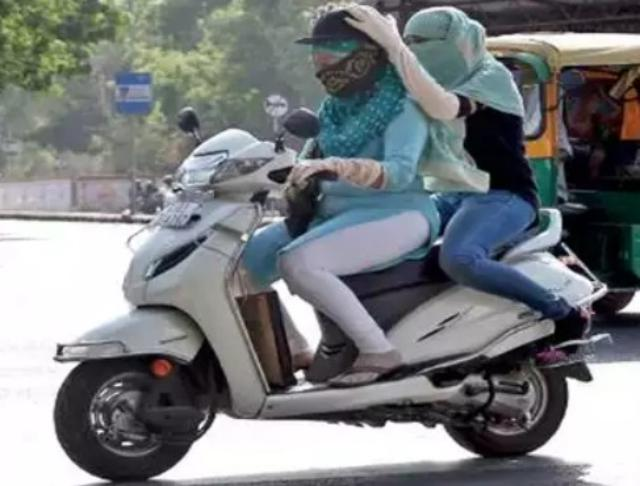licensePlate: (157, 203, 200, 232)
motorcycle: (57, 0, 619, 485)
withHelmet: (299, 9, 398, 93)
withoutHelmet: (410, 10, 503, 90)
